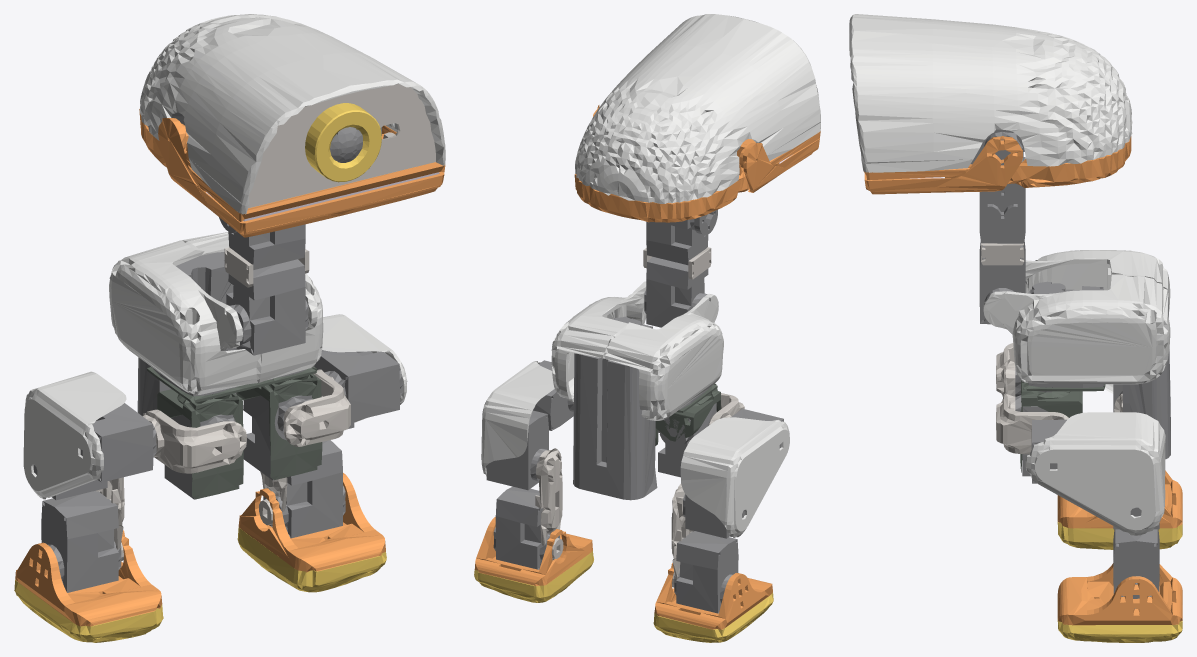
The model's file is microduck.glb.
3 renders of one model, left to right at view 1: azimuth 30°, elevation 25°; view 2: azimuth 150°, elevation 25°; view 3: azimuth 270°, elevation 25°, orthographic. The views are drawn at different scales.
Visible parts, largest first — view 1: jaw_soft_mesh, trunk_base_mesh, upper_leg_right_mesh, ankle_left_mesh, ankle_right_mesh, neck_mesh, leg_2_mesh, upper_leg_left_mesh, beak_mesh, yaw2roll_mesh, leg_mesh, bearing_roll_mesh (+2 smaller); view 2: jaw_soft_mesh, trunk_base_mesh, upper_leg_right_mesh, upper_leg_left_mesh, neck_mesh, leg_mesh, ankle_left_mesh, leg_2_mesh, ankle_right_mesh, bearing_roll_mesh, beak_mesh, hip_l_2_mesh; view 3: jaw_soft_mesh, trunk_base_mesh, upper_leg_left_mesh, ankle_left_mesh, neck_mesh, beak_mesh, ankle_right_mesh, leg_mesh, hip_l_mesh, yaw2roll_mesh, neck_pitch_mesh, hip_l_2_mesh.
Boxes of the visible parts, bbox=[...] form: jaw_soft_mesh: bbox=[139, 14, 445, 221]; trunk_base_mesh: bbox=[109, 232, 323, 415]; upper_leg_right_mesh: bbox=[23, 371, 156, 500]; ankle_left_mesh: bbox=[237, 473, 386, 592]; ankle_right_mesh: bbox=[14, 530, 163, 642]; neck_mesh: bbox=[224, 224, 309, 355]; leg_2_mesh: bbox=[41, 477, 124, 592]; upper_leg_left_mesh: bbox=[314, 314, 407, 428]; beak_mesh: bbox=[158, 118, 444, 237]; yaw2roll_mesh: bbox=[236, 374, 322, 480]; leg_mesh: bbox=[259, 440, 345, 538]; bearing_roll_mesh: bbox=[157, 389, 243, 499]; jaw_soft_mesh: bbox=[574, 14, 820, 222]; trunk_base_mesh: bbox=[551, 281, 723, 500]; upper_leg_right_mesh: bbox=[680, 408, 789, 538]; upper_leg_left_mesh: bbox=[481, 360, 573, 490]; neck_mesh: bbox=[643, 214, 711, 327]; leg_mesh: bbox=[493, 448, 563, 569]; ankle_left_mesh: bbox=[474, 517, 593, 602]; leg_2_mesh: bbox=[671, 484, 738, 613]; ankle_right_mesh: bbox=[653, 563, 773, 642]; bearing_roll_mesh: bbox=[655, 388, 721, 477]; beak_mesh: bbox=[593, 105, 819, 192]; hip_l_2_mesh: bbox=[708, 393, 744, 425]; jaw_soft_mesh: bbox=[849, 14, 1132, 187]; trunk_base_mesh: bbox=[983, 250, 1170, 459]; upper_leg_left_mesh: bbox=[1025, 412, 1165, 535]; ankle_left_mesh: bbox=[1057, 563, 1182, 642]; neck_mesh: bbox=[979, 157, 1025, 324]; beak_mesh: bbox=[864, 136, 1022, 194]; ankle_right_mesh: bbox=[1057, 470, 1182, 549]; leg_mesh: bbox=[1113, 529, 1159, 608]; hip_l_mesh: bbox=[996, 393, 1068, 454]; yaw2roll_mesh: bbox=[1015, 380, 1082, 476]; neck_pitch_mesh: bbox=[982, 152, 1023, 223]; hip_l_2_mesh: bbox=[996, 343, 1015, 397].
Bounding box in the file's own units: 0.141 × 0.2637 × 0.144.
